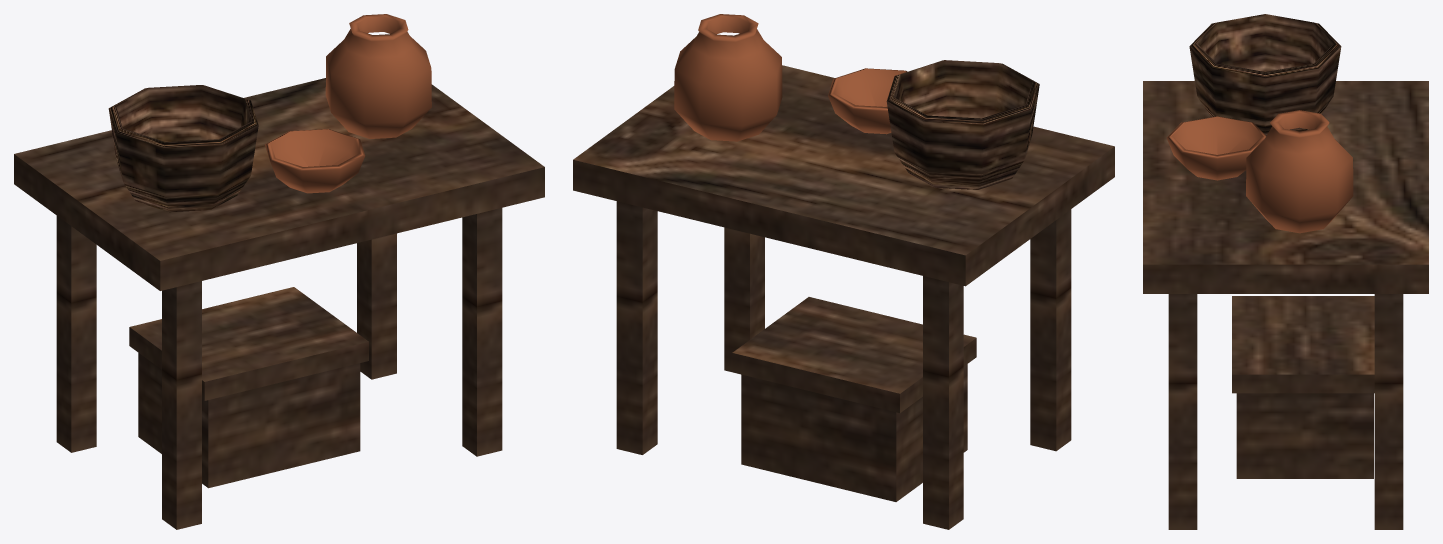
The model's file is periodMarket.glb.
3 views of the same model, side by side, from view 1: azimuth 30°, elevation 25°; view 2: azimuth 150°, elevation 25°; view 3: azimuth 270°, elevation 25° (orthographic). The views are drawn at different scales.
Parts seen in each view (by area): view 1: part_2, part_0, part_1; view 2: part_2, part_0, part_1; view 3: part_2, part_1, part_0.
Boxes of the visible parts, bbox=[...] form: part_2: bbox=[14, 78, 544, 529]; part_0: bbox=[108, 85, 258, 212]; part_1: bbox=[265, 14, 431, 193]; part_2: bbox=[573, 65, 1114, 529]; part_0: bbox=[886, 60, 1039, 189]; part_1: bbox=[674, 14, 907, 141]; part_2: bbox=[1143, 81, 1428, 529]; part_1: bbox=[1166, 110, 1353, 233]; part_0: bbox=[1189, 14, 1341, 135].
Bounding box in the file's own units: 0.76 × 0.7345 × 0.5.
3 materials, 2 textured.
